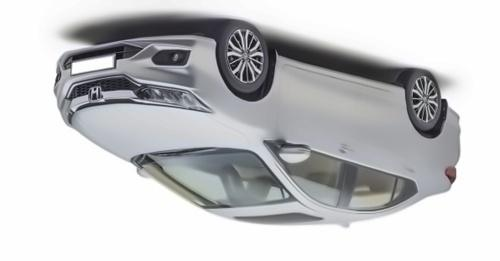Car hood: (70, 100, 244, 166)
Driver-s door - -F-R-: (267, 48, 352, 216)
Fender - -F-R-: (187, 36, 279, 137)
Front bumper: (40, 35, 219, 100)
Headlight - -L-: (62, 106, 79, 130)
Headlight - -R-: (133, 83, 214, 117)
Passenger-s door - -R-R-: (338, 70, 417, 223)
Rear bumper: (438, 98, 467, 177)
Rear light - -R-: (443, 165, 460, 187)
Side bumper - -R-: (272, 52, 407, 102)
Side mirror - -R-: (275, 141, 313, 165)
